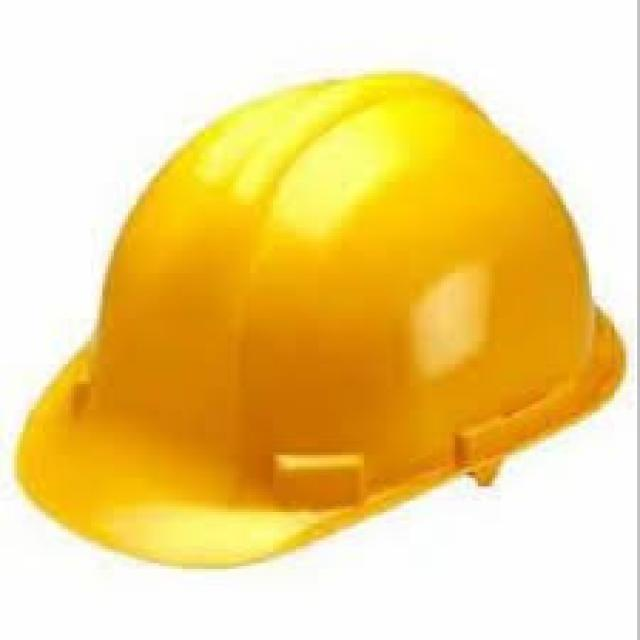Safety-Helmet: (28, 51, 634, 515)
